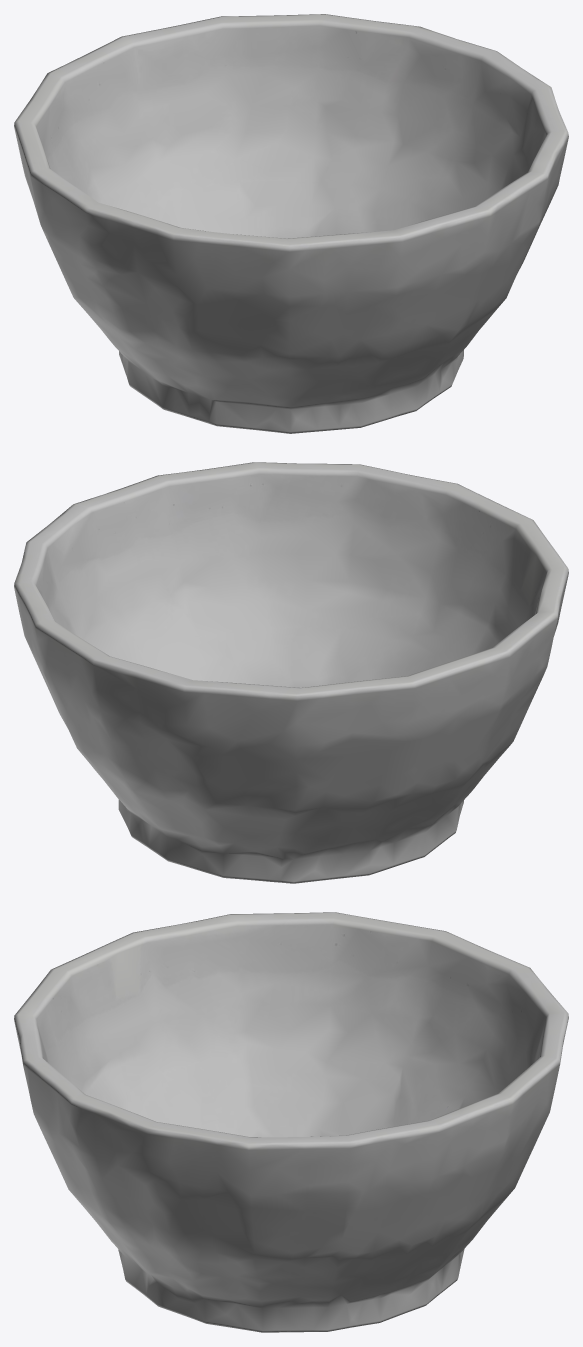
File: bowl.obj
3 renders of one model, top to bottom at view 1: azimuth 30°, elevation 25°; view 2: azimuth 150°, elevation 25°; view 3: azimuth 270°, elevation 25°, orthographic.
Parts seen in each view (by area): view 1: meshes[0]; view 2: meshes[0]; view 3: meshes[0].
Part boxes in pixels (bbox=[...]): meshes[0]: bbox=[14, 14, 568, 433]; meshes[0]: bbox=[14, 462, 568, 883]; meshes[0]: bbox=[14, 912, 568, 1332].
Bounding box in the file's own units: 0.979 × 0.4563 × 0.9806.
Materials: 1 (1 with a texture image).
